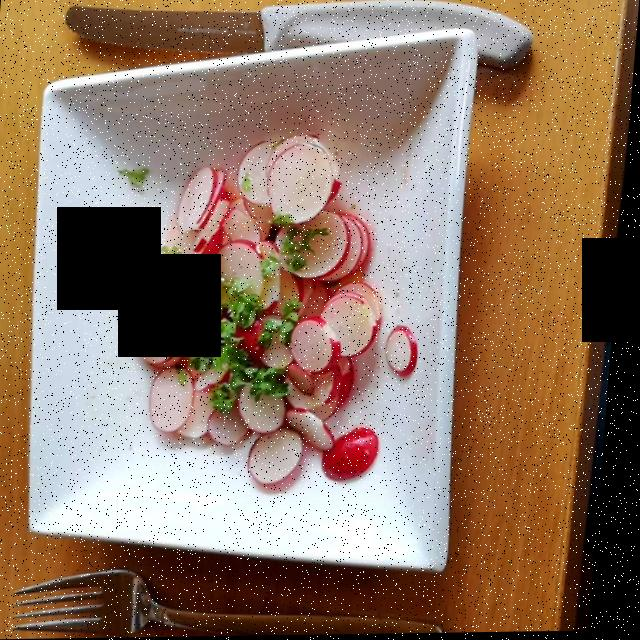red-radish: (107, 128, 420, 478)
